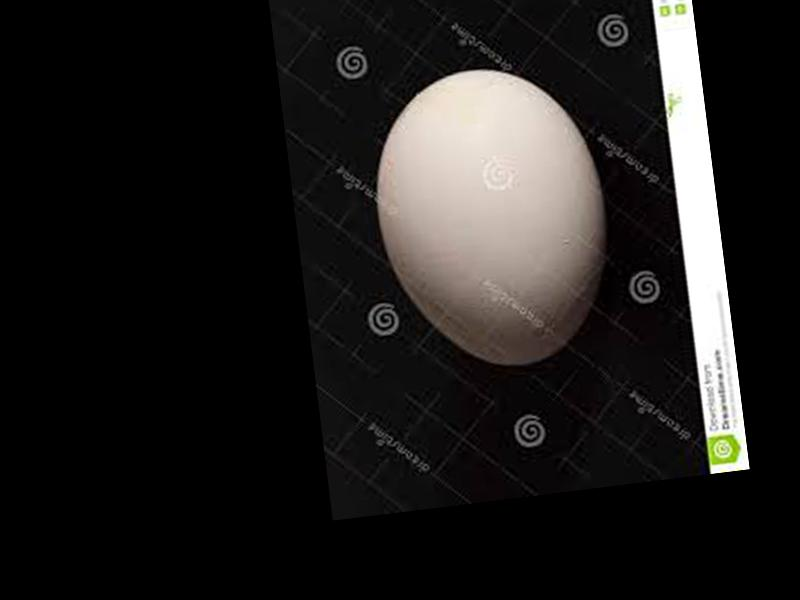Eggs: (362, 54, 621, 380)
